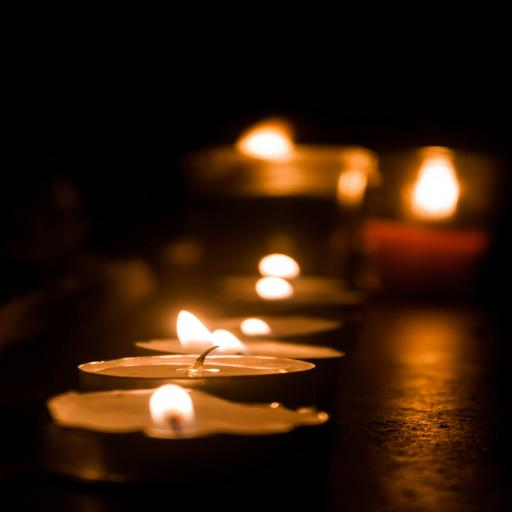candlelight: (80, 352, 326, 405), (143, 312, 343, 346), (134, 331, 344, 360), (402, 146, 467, 226), (145, 382, 200, 440), (174, 308, 219, 356)
